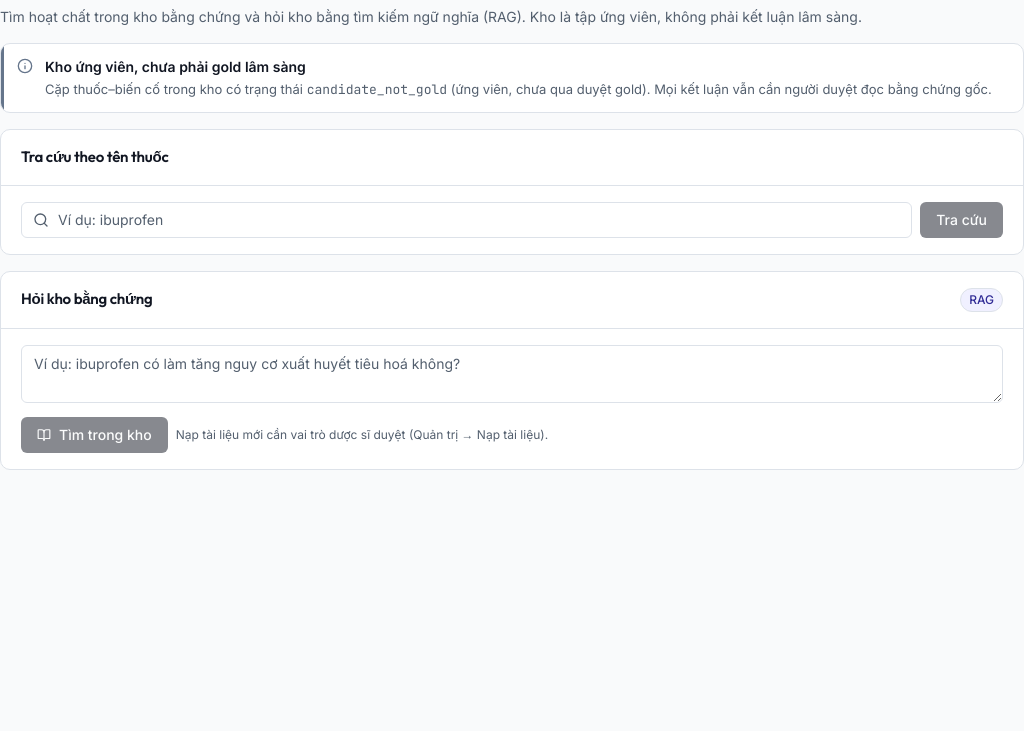
/app/drugs — tìm kiếm ngữ nghĩa RAG › mở tài liệu từ thẻ kết quả thì hiện chi tiết và đóng lại được
The width and height of the screenshot is (1024, 731).
In the field named "Tên thuốc cần tra cứu": x=467, y=220 [21,202,912,238], type "ibuprofen"
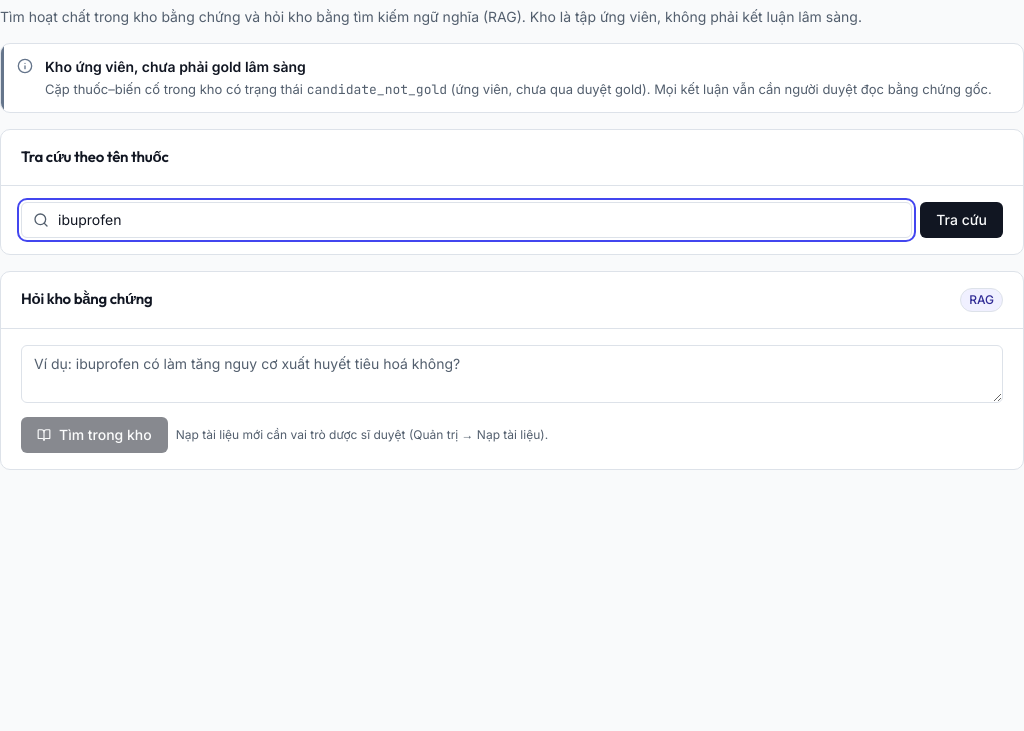
Click the button "Tra cứu": x=962, y=220 [920,202,1003,238]
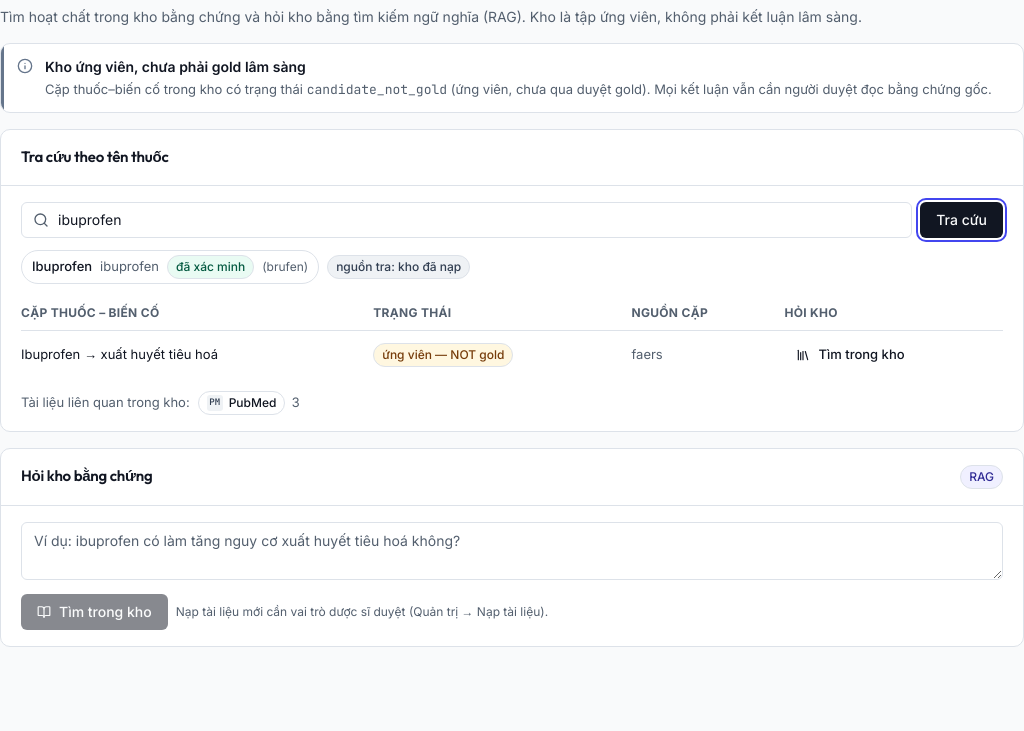
Click the button "Tìm trong kho" in the row of "xuất huyết tiêu hoá": x=851, y=355 [784,339,917,371]
(page scrolled)
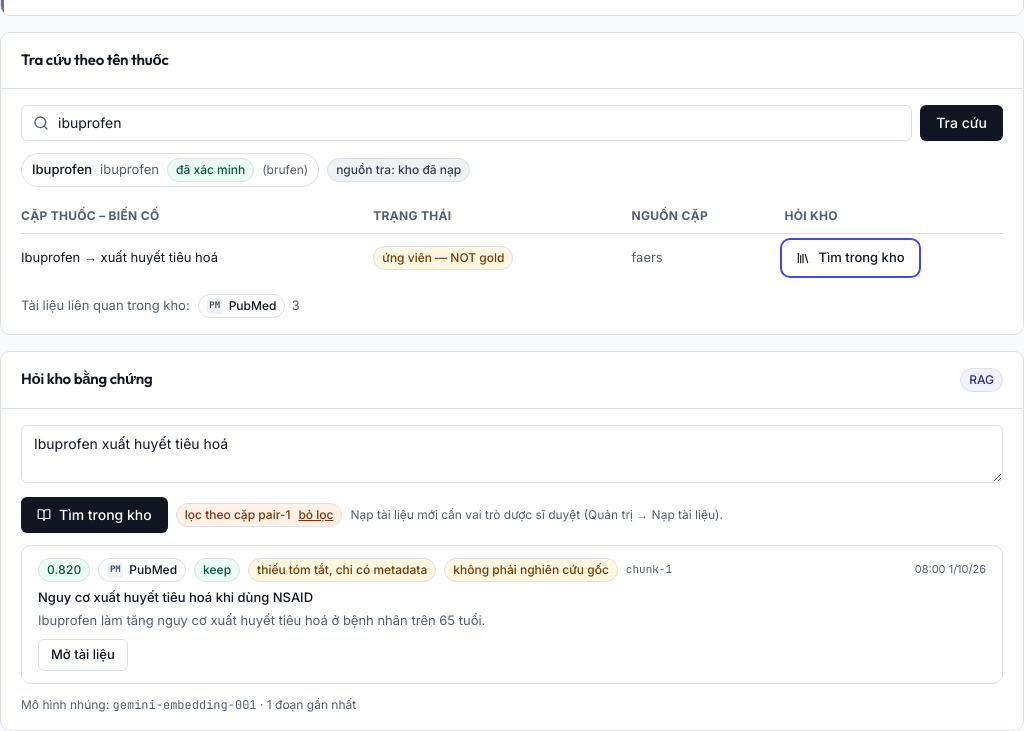
Click the button "Mở tài liệu": x=83, y=655 [38,639,128,671]
(page scrolled)
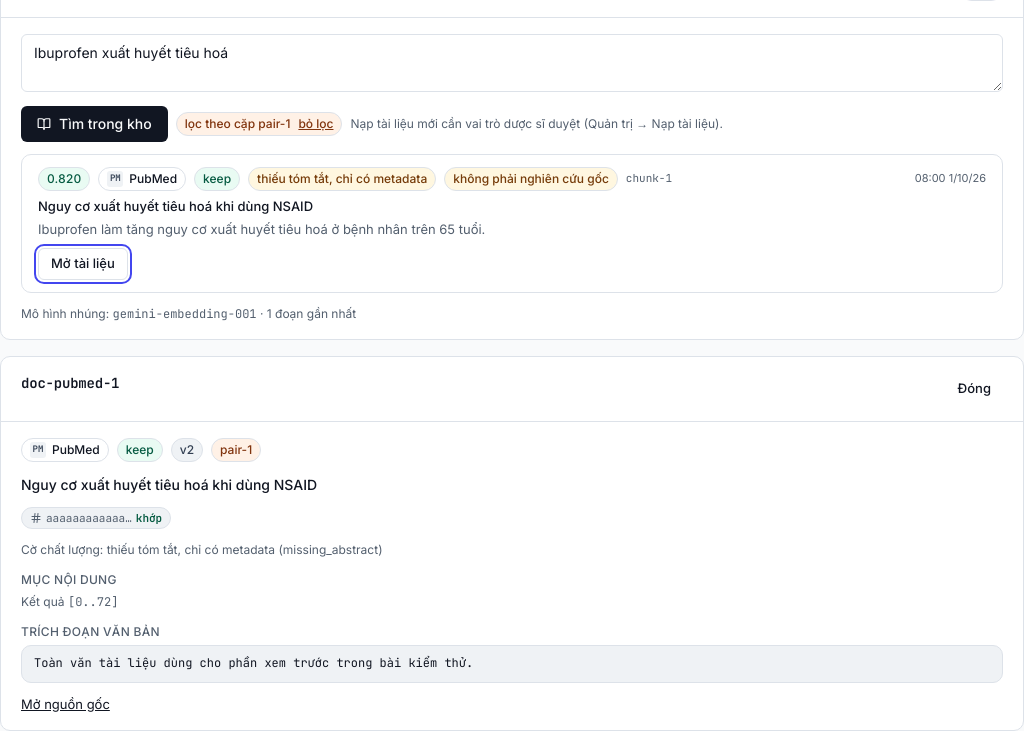
Expected: the text "Toàn văn tài liệu dùng cho phần xem trước trong bài kiểm thử." is shown, [21,645,1003,683]
Click the button "Đóng": x=974, y=389 [946,373,1003,405]
(page scrolled)
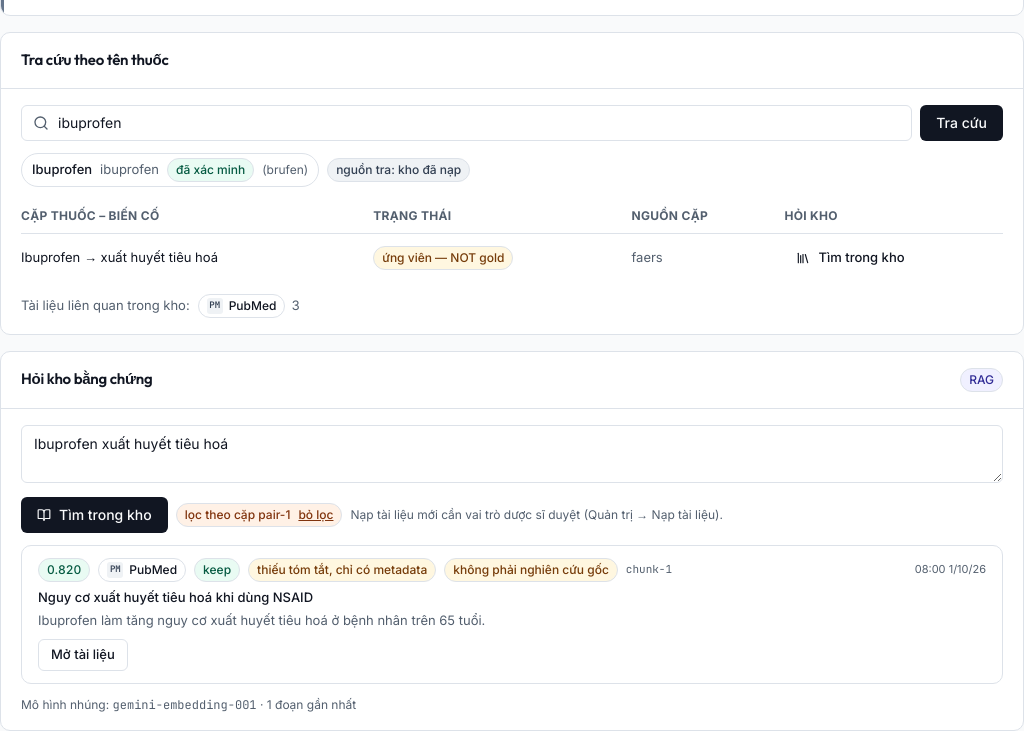
Expected: the text "Toàn văn tài liệu dùng cho phần xem trước trong bài kiểm thử." is gone
